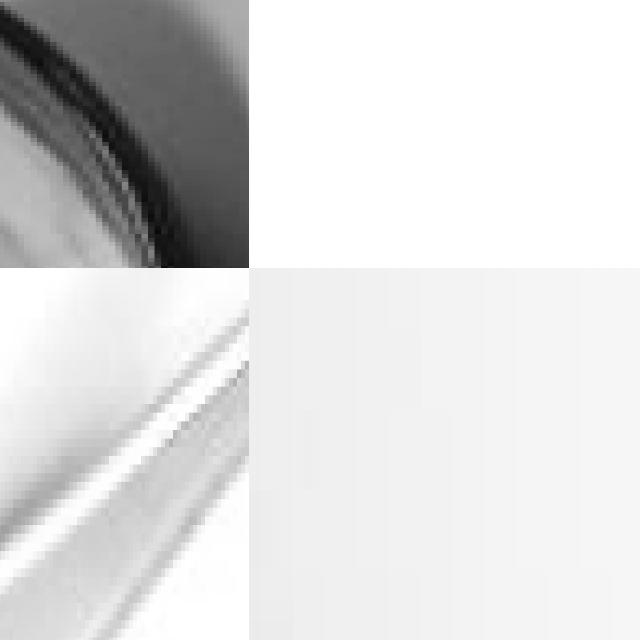spoons: (0, 0, 249, 268)
